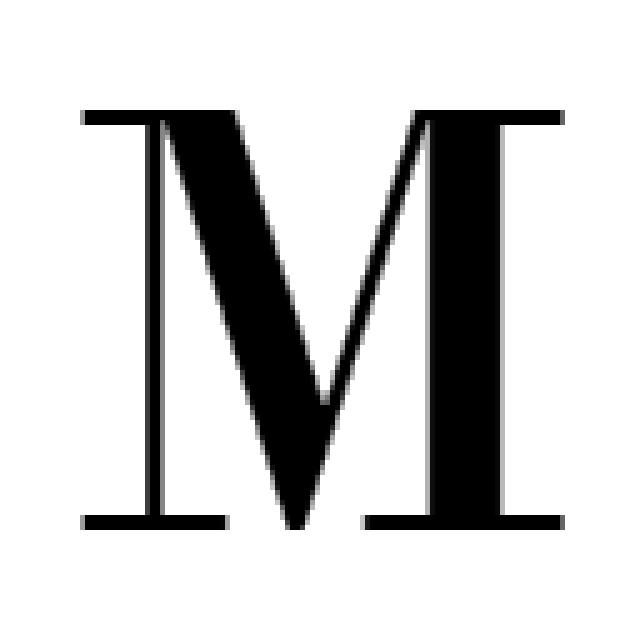M: (71, 105, 575, 533)
